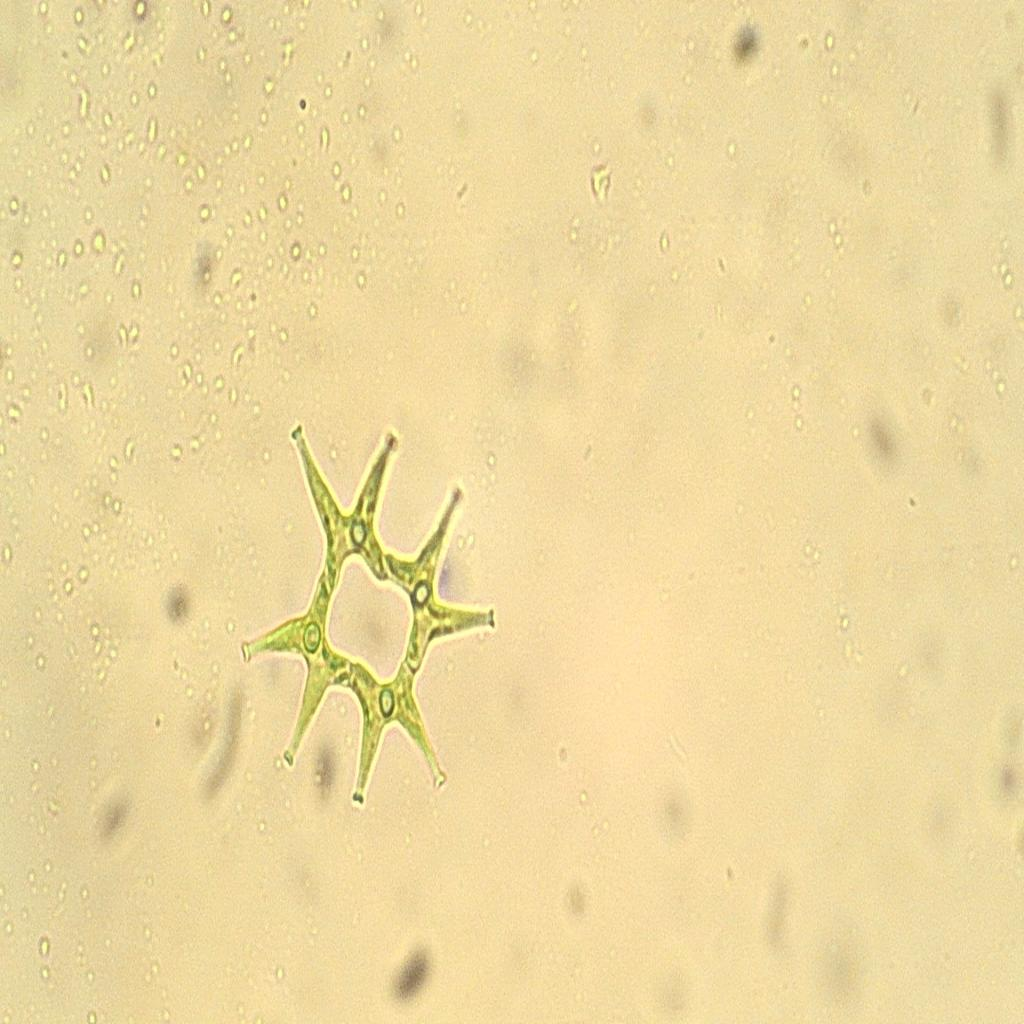Pediastrum_CO: (239, 399, 505, 828)
